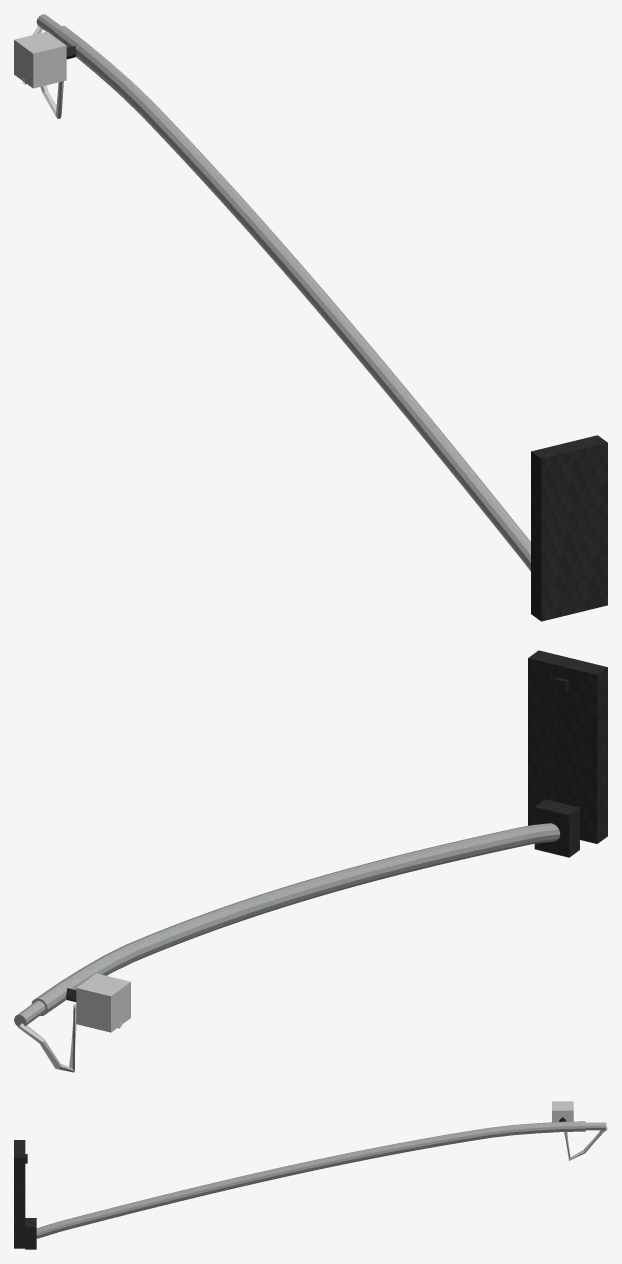
The model's file is arm_5_straight_left_wired.obj.
The picture shows the model from 3 angles, top to bottom: view 1: azimuth 30°, elevation 25°; view 2: azimuth 150°, elevation 25°; view 3: azimuth 270°, elevation 25°; orthographic projection. The views are drawn at different scales.
Parts seen in each view (by area): view 1: pole_light_mount_5_straight_left_wired; view 2: pole_light_mount_5_straight_left_wired; view 3: pole_light_mount_5_straight_left_wired.
Part boxes in pixels (box(x1,y1,x2,y2)): pole_light_mount_5_straight_left_wired: box(14, 14, 607, 621); pole_light_mount_5_straight_left_wired: box(14, 650, 607, 1072); pole_light_mount_5_straight_left_wired: box(14, 1101, 607, 1249).
Size of the model in its own units: 0.5175 by 1.24 by 5.2.
